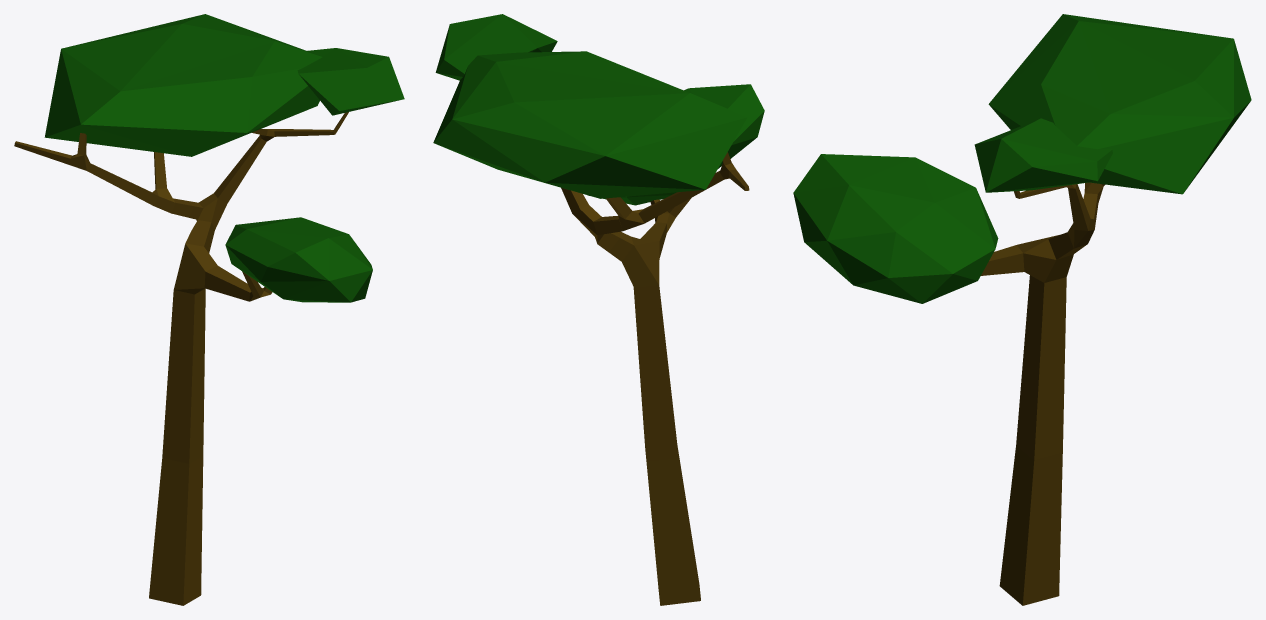
File: Tree3.fbx
3 views of the same model, side by side, from view 1: azimuth 30°, elevation 25°; view 2: azimuth 150°, elevation 25°; view 3: azimuth 270°, elevation 25° (orthographic). The views are drawn at different scales.
Visible parts, largest first — view 1: Cube.001; view 2: Cube.001; view 3: Cube.001.
Boxes of the visible parts, x1=… form: Cube.001: x1=14, y1=14, x2=404, y2=605; Cube.001: x1=433, y1=14, x2=764, y2=605; Cube.001: x1=793, y1=14, x2=1251, y2=605.
Bounding box in the file's own units: 1338 × 1949 × 1454.
